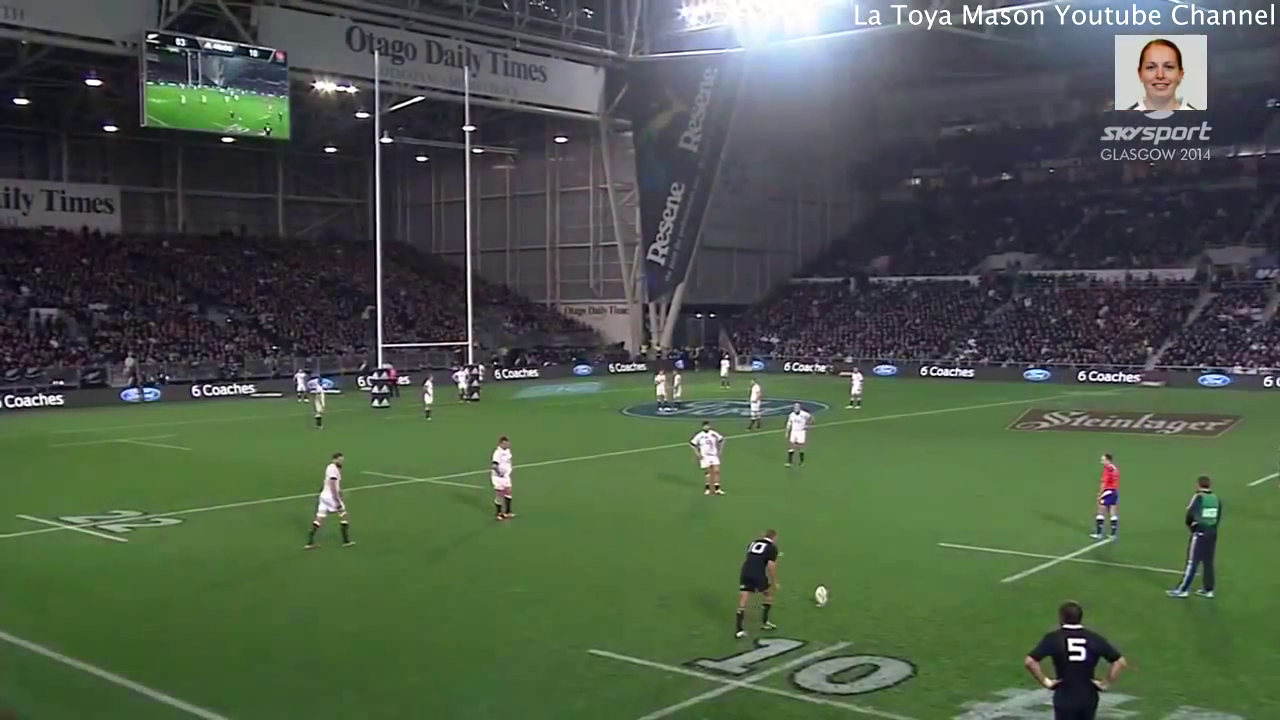10_metre: (576, 621, 945, 720), (933, 521, 1223, 599)
player: (1017, 589, 1134, 720), (1156, 469, 1228, 608), (727, 522, 786, 640), (298, 448, 362, 552), (1085, 447, 1133, 548), (684, 418, 733, 501), (485, 434, 526, 529), (773, 400, 817, 471), (739, 377, 769, 435), (839, 363, 871, 416), (309, 375, 331, 431), (651, 368, 672, 419), (419, 372, 439, 423), (668, 363, 685, 406), (292, 366, 310, 405), (449, 364, 467, 403), (386, 365, 406, 397), (716, 352, 732, 389)
post: (365, 47, 488, 409)
